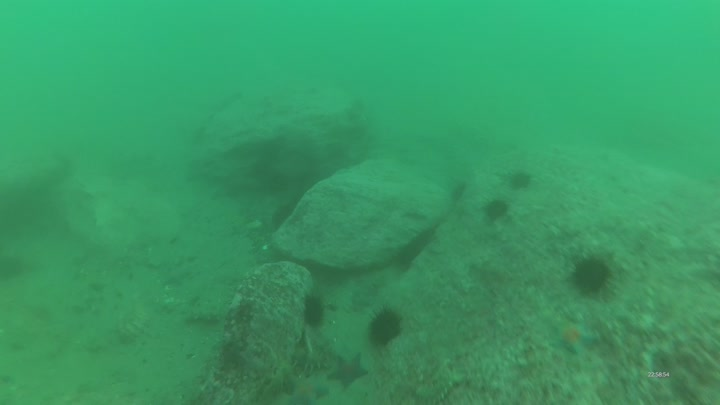echinus: (571, 255, 612, 294), (366, 305, 404, 345), (298, 293, 328, 327), (395, 244, 423, 271), (482, 197, 509, 222), (271, 205, 297, 230), (508, 171, 534, 193), (451, 181, 475, 204)
holothurian: (410, 371, 462, 405), (288, 341, 333, 374)
starfish: (546, 317, 600, 353), (326, 354, 372, 388), (287, 383, 332, 405)
